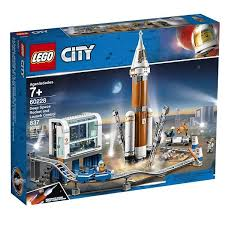ten_lua: (126, 30, 158, 166)
